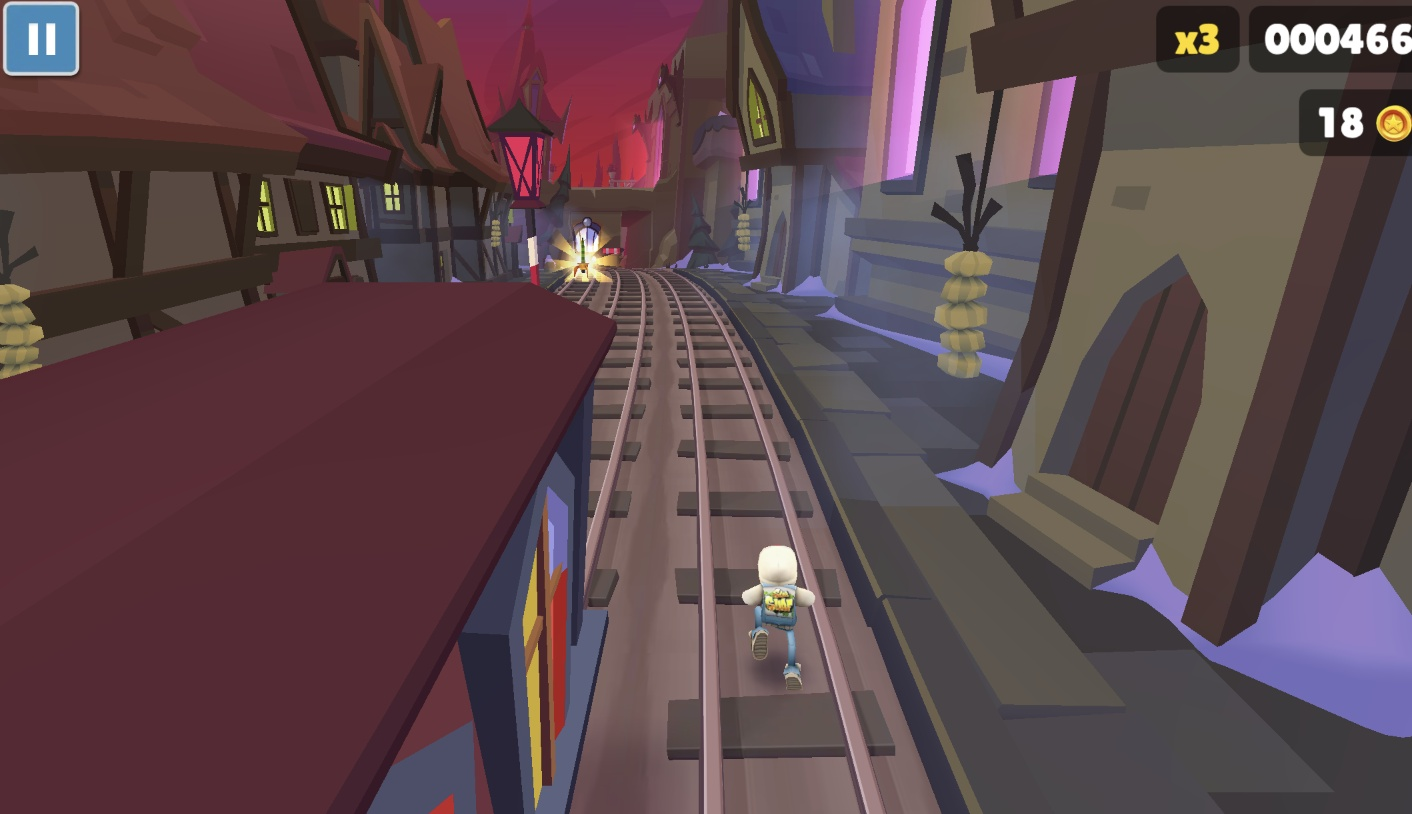ground_barrier: (603, 247, 627, 273)
train: (0, 284, 605, 814), (570, 219, 603, 275)
